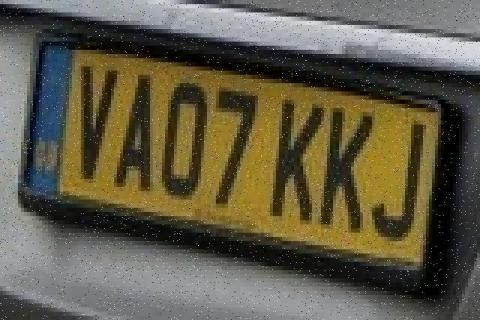LicensePlate: (15, 14, 457, 306)
